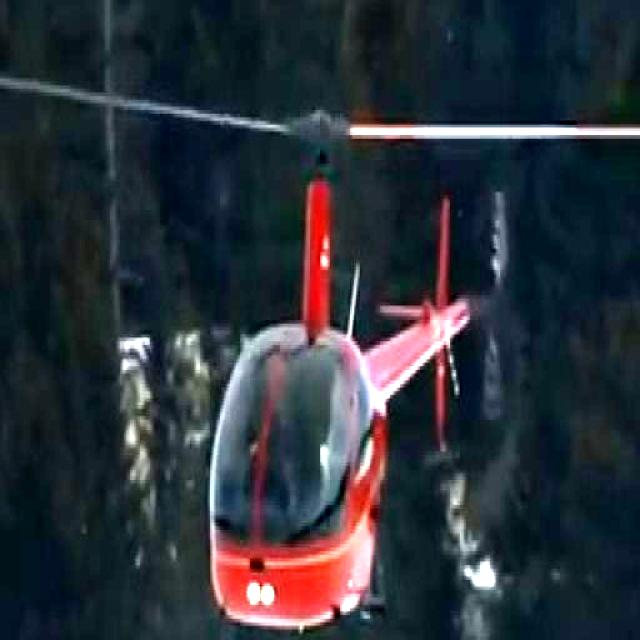drone: (0, 28, 640, 640)
